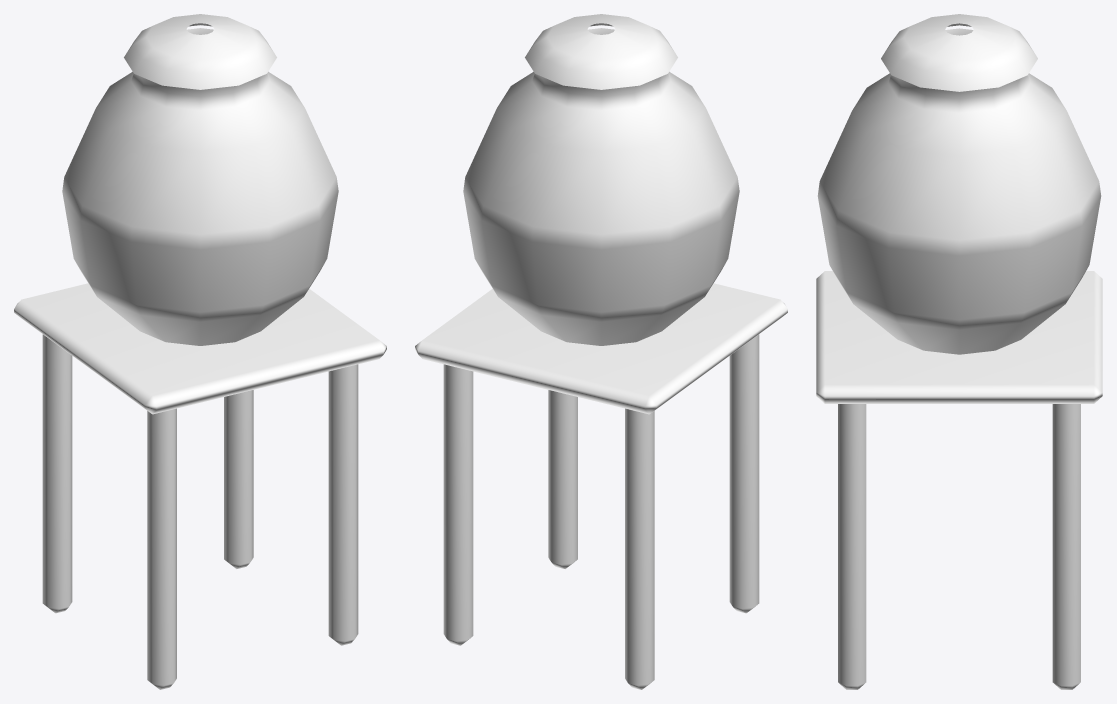
Rendered from matka.glb.
3 renders of one model, left to right at view 1: azimuth 30°, elevation 25°; view 2: azimuth 150°, elevation 25°; view 3: azimuth 270°, elevation 25°, orthographic. The views are drawn at different scales.
Visible parts, largest first — view 1: Matka; view 2: Matka; view 3: Matka.
Part boxes in pixels (<box>): Matka: <box>14,14,386,689</box>; Matka: <box>415,14,787,689</box>; Matka: <box>816,14,1102,689</box>.
Size of the model in its own units: 0.4 by 0.945 by 0.4.
1 material, 1 textured.
